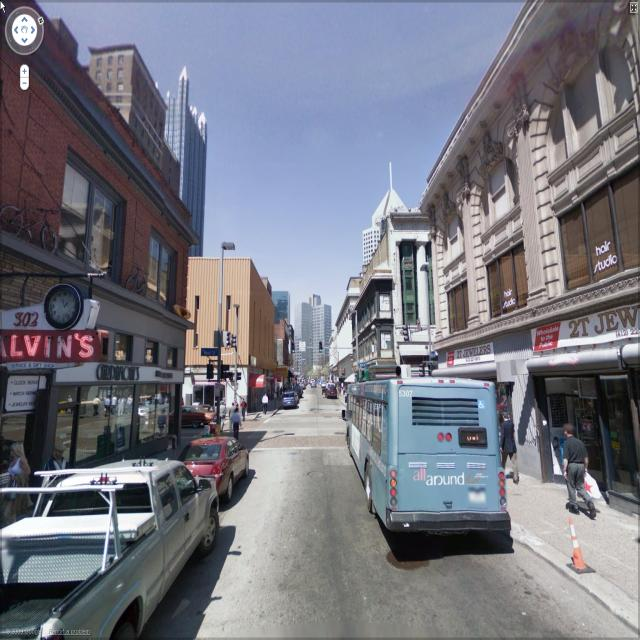b_1: (440, 3, 628, 489), (0, 18, 186, 406), (176, 252, 292, 416), (350, 214, 442, 402), (85, 37, 173, 171), (162, 65, 214, 244), (274, 286, 338, 382), (330, 268, 370, 396), (363, 184, 412, 252)
